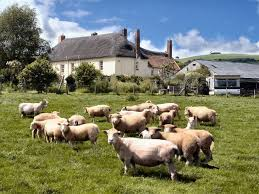sheep: (103, 127, 181, 180), (150, 125, 200, 160), (57, 120, 102, 147), (185, 104, 221, 128), (109, 112, 148, 133), (44, 117, 68, 145), (81, 104, 112, 123), (18, 98, 49, 116), (157, 109, 179, 125)
